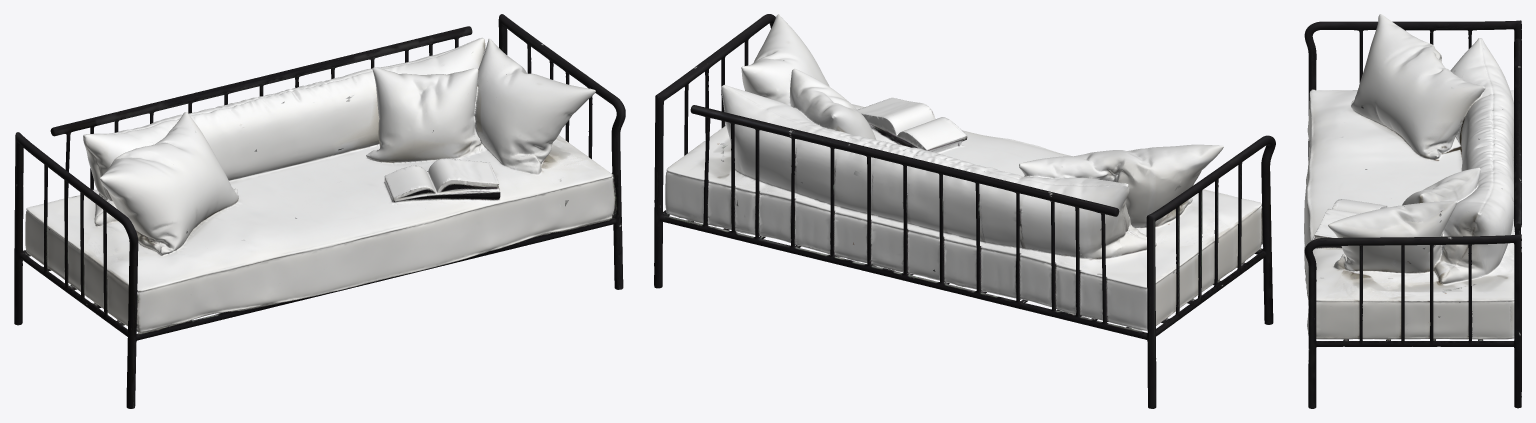
The picture shows the model from 3 angles, left to right: view 1: azimuth 30°, elevation 25°; view 2: azimuth 150°, elevation 25°; view 3: azimuth 270°, elevation 25°; orthographic projection. The views are drawn at different scales.
Parts seen in each view (by area): view 1: Mesh_0; view 2: Mesh_0; view 3: Mesh_0.
Part boxes in pixels (left/top/right/bottom): Mesh_0: left=14, top=14, right=625, bottom=408; Mesh_0: left=654, top=14, right=1275, bottom=408; Mesh_0: left=1304, top=14, right=1521, bottom=408.
Bounding box in the file's own units: 1.54 × 0.6 × 0.6427.
Materials: 1 (1 with a texture image).
